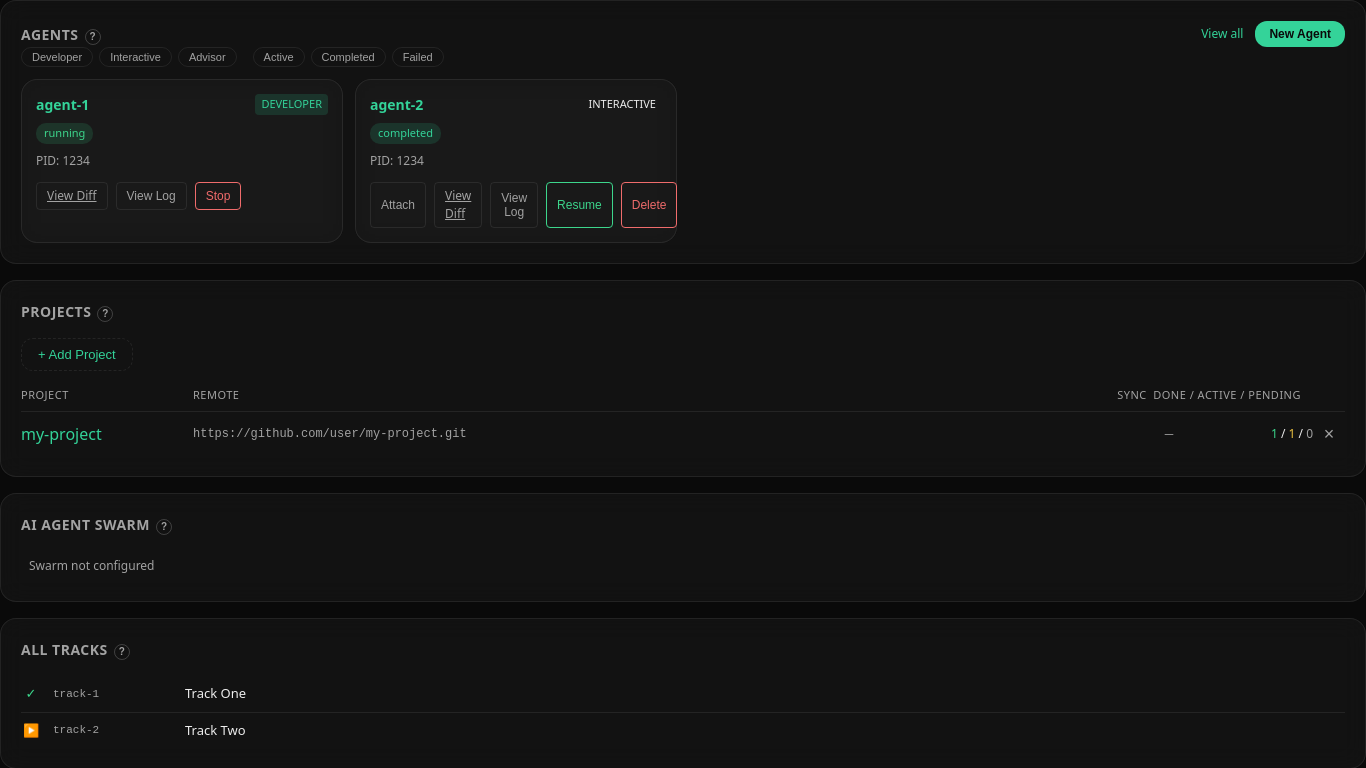
OverviewPage › filters agents by role when chip is clicked
Expected: the link "agent-1" is shown, [36,94,89,115]
Expected: the link "agent-2" is shown, [370,94,423,115]
Click the button "developer" at (57, 57), box [21,47,93,67]
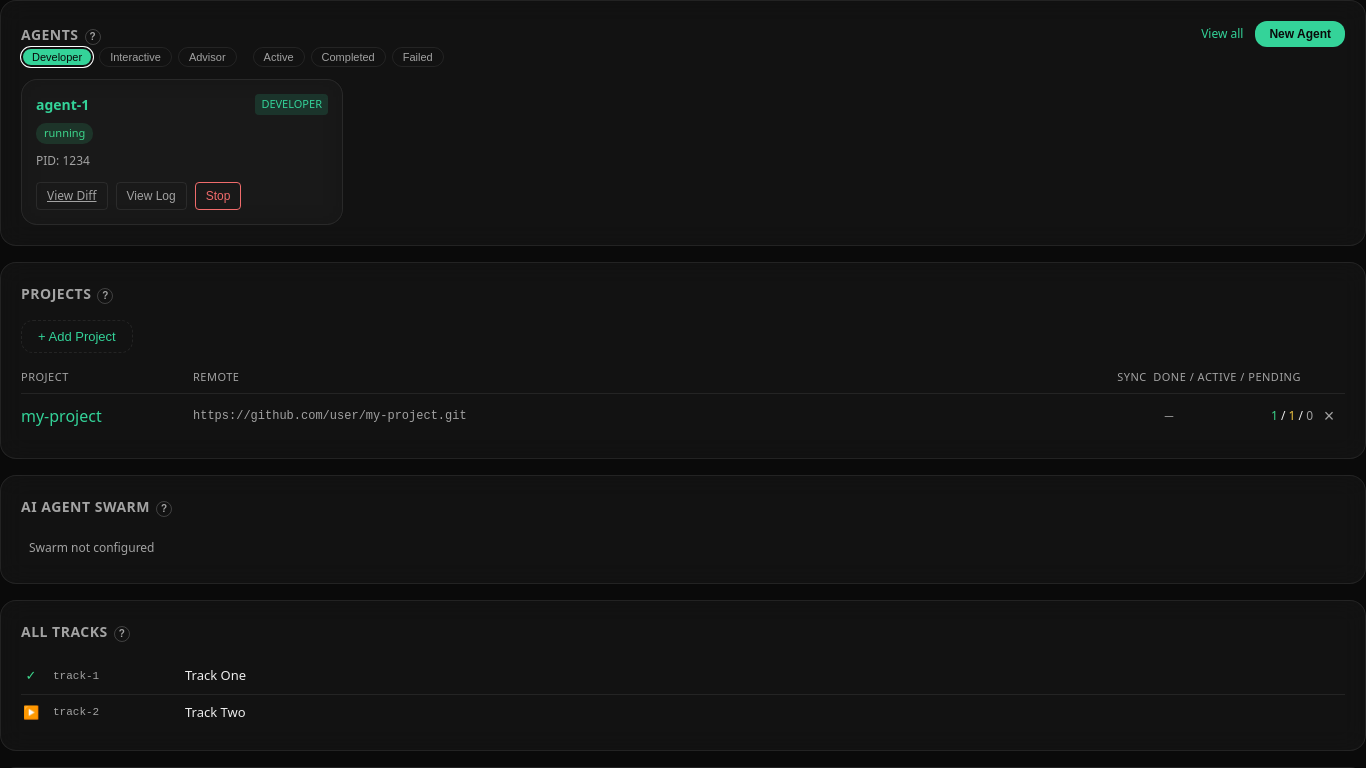
Expected: the link "agent-1" is shown, [36,94,89,115]
Expected: the link "agent-2" is gone
